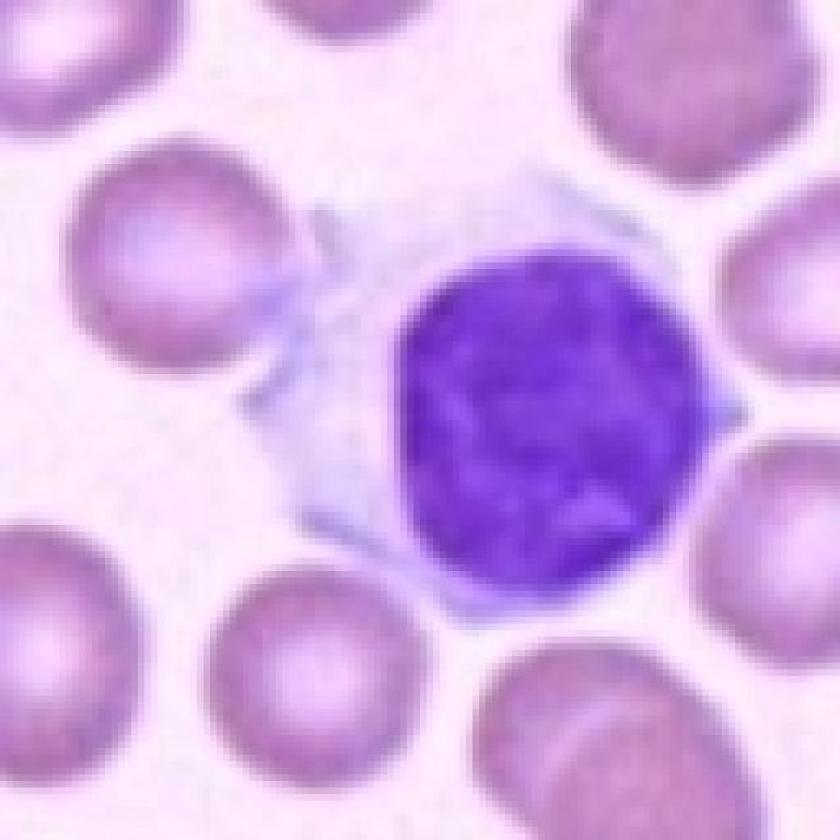lymphocyte: (236, 144, 752, 640)
